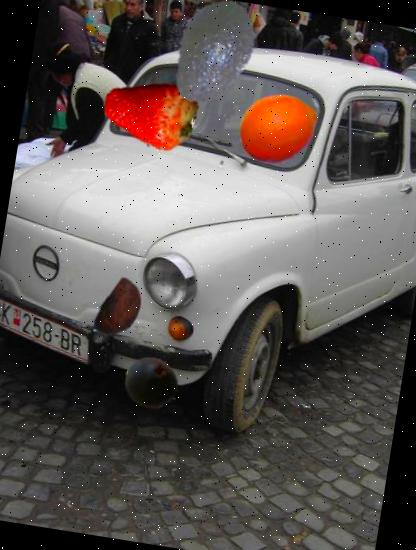Avocado: (150, 0, 275, 115)
Chestnut: (85, 275, 156, 346)
Plum: (120, 352, 184, 414)
Strawberry: (98, 57, 204, 163)
Tangelo: (233, 82, 326, 174)
